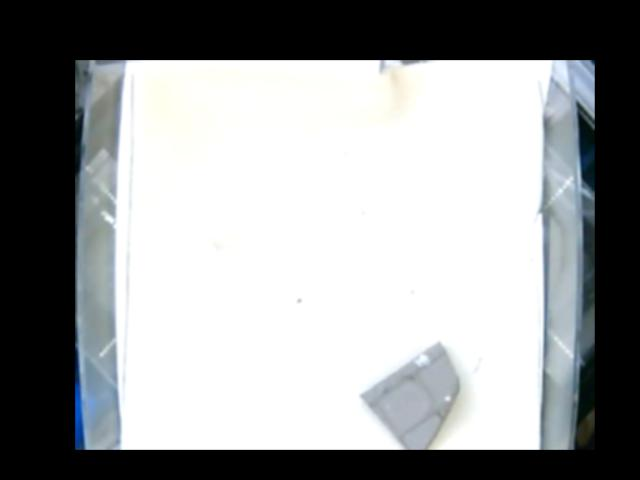China: (358, 338, 459, 449)
